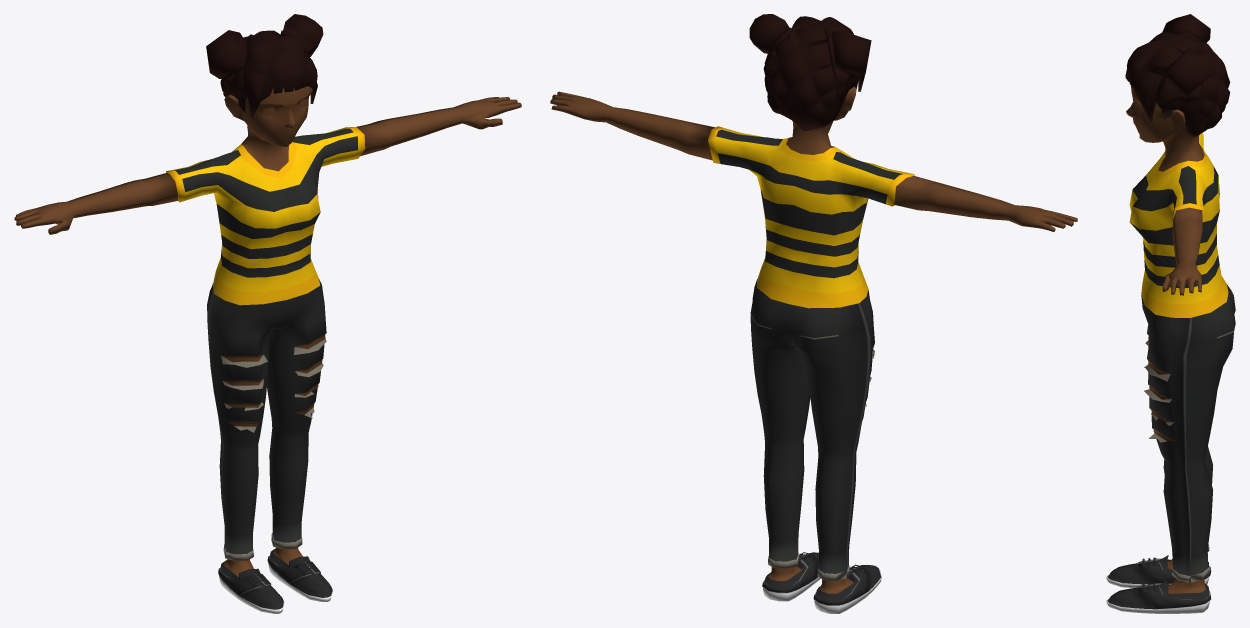
File: TestNPCs_04.glb
3 renders of one model, left to right at view 1: azimuth 30°, elevation 25°; view 2: azimuth 150°, elevation 25°; view 3: azimuth 270°, elevation 25°, orthographic. The views are drawn at different scales.
Visible parts, largest first — view 1: F_uBody_BeeTShirt, F_lBody_DistressedBlackJeans, F_Hair_DoubleBun.001, M_Feet_ClassicShoes, F_Head_BaseMesh.003; view 2: F_uBody_BeeTShirt, F_lBody_DistressedBlackJeans, F_Hair_DoubleBun.001, M_Feet_ClassicShoes, F_Head_BaseMesh.003; view 3: F_lBody_DistressedBlackJeans, F_uBody_BeeTShirt, F_Hair_DoubleBun.001, M_Feet_ClassicShoes, F_Head_BaseMesh.003.
Part boxes in pixels (bbox=[...]): F_uBody_BeeTShirt: bbox=[14, 97, 521, 305]; F_lBody_DistressedBlackJeans: bbox=[207, 279, 326, 560]; F_Hair_DoubleBun.001: bbox=[206, 14, 323, 120]; M_Feet_ClassicShoes: bbox=[218, 547, 333, 613]; F_Head_BaseMesh.003: bbox=[224, 86, 312, 171]; F_uBody_BeeTShirt: bbox=[550, 91, 1077, 308]; F_lBody_DistressedBlackJeans: bbox=[750, 278, 874, 580]; F_Hair_DoubleBun.001: bbox=[749, 14, 871, 131]; M_Feet_ClassicShoes: bbox=[762, 552, 881, 613]; F_Head_BaseMesh.003: bbox=[786, 86, 856, 154]; F_lBody_DistressedBlackJeans: bbox=[1141, 285, 1235, 582]; F_uBody_BeeTShirt: bbox=[1129, 133, 1228, 317]; F_Hair_DoubleBun.001: bbox=[1125, 14, 1230, 137]; M_Feet_ClassicShoes: bbox=[1106, 555, 1211, 613]; F_Head_BaseMesh.003: bbox=[1126, 86, 1204, 171].
Size of the model in its own units: 1.9 by 2.02 by 0.42.
Materials: 5 (3 with a texture image).
